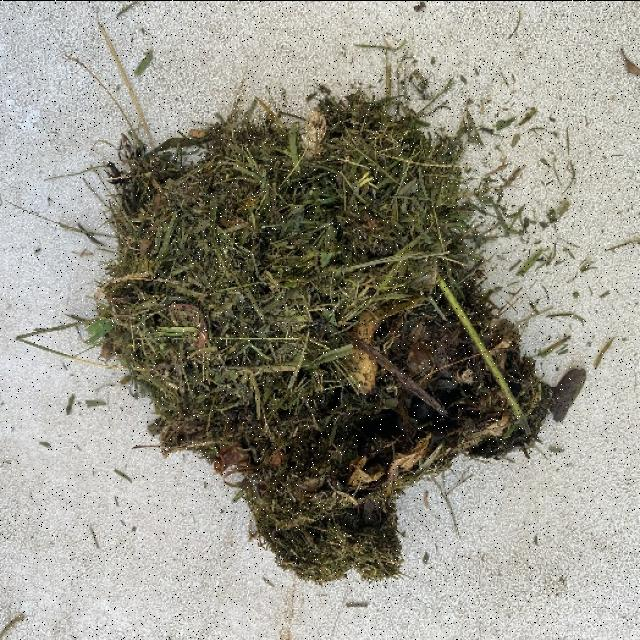organik: (82, 117, 554, 580)
